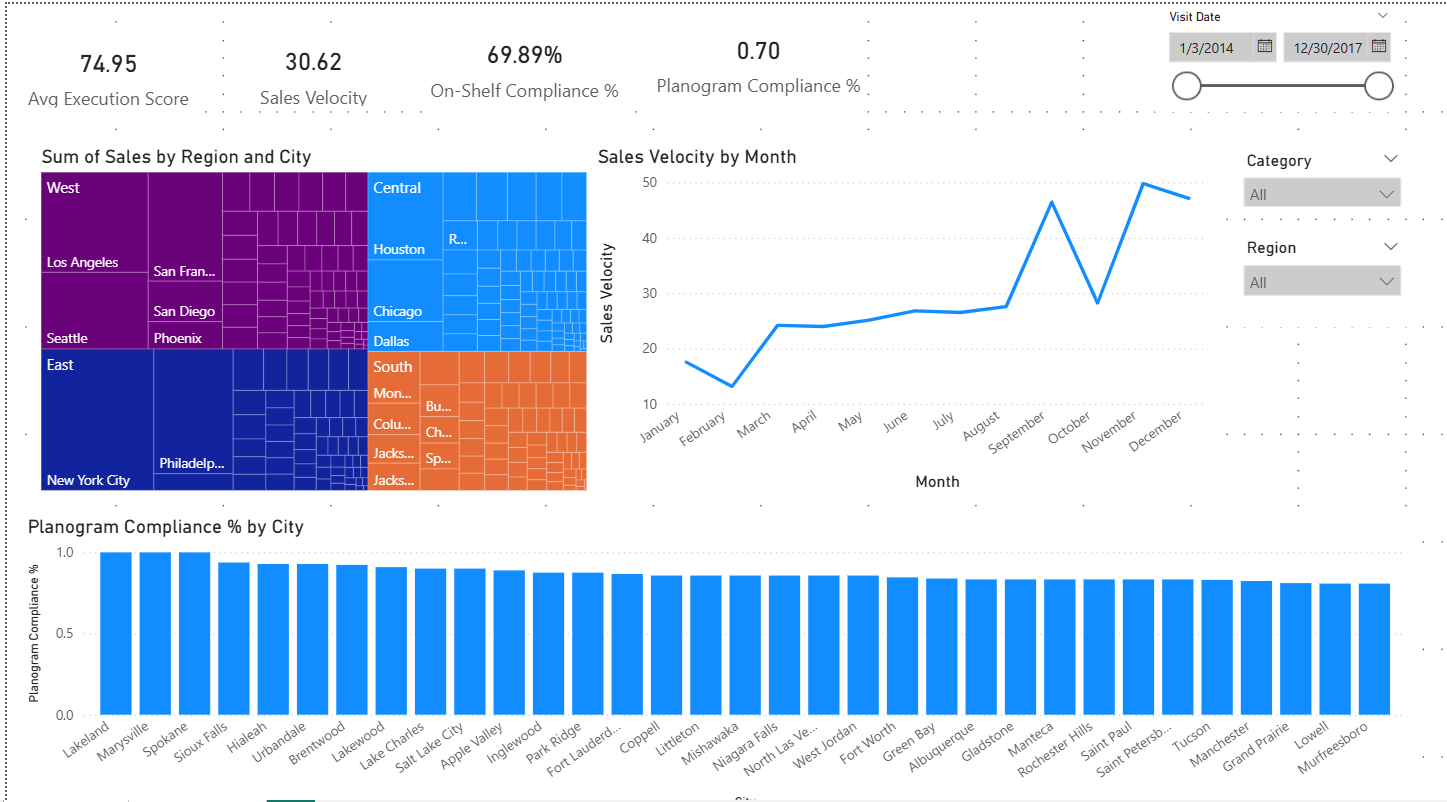

Layout of this report page (visuals, bound fields, positions):
{"tool":"powerbi","page":{"name":"Dashboard","canvas":[1280,720],"ordinal":0},"visuals":[{"type":"card","fields":{"Values":["Measurestable.Avg Execution Score"]},"box":[13.7,28.6,154.3,68.6],"z":0},{"type":"card","fields":{"Values":["Measurestable.Sales Velocity"]},"box":[196.6,28.6,152,66.3],"z":1000},{"type":"card","fields":{"Values":["Measurestable.On-Shelf Compliance %"]},"box":[371.4,5.7,178.3,100.6],"z":2000},{"type":"card","fields":{"Values":["Measurestable.Planogram Compliance %"]},"box":[572.6,0,192,104],"z":3000},{"type":"lineChart","fields":{"Y":["Measurestable.Sales Velocity"],"Category":["Fact_Store_Visit.Visit Date.Variation.Date Hierarchy.Month"]},"box":[520,125.7,552,312],"z":4000},{"type":"clusteredColumnChart","fields":{"Y":["Measurestable.Planogram Compliance %"],"Category":["Dim_Store.City"]},"box":[13.7,454.9,1235.4,266.3],"z":5000},{"type":"slicer","fields":{"Values":["Dim_Product.Category"]},"box":[1089.2,125.6,160,54.5],"z":6000},{"type":"slicer","fields":{"Values":["Fact_Store_Visit.Visit Date"]},"box":[1020.4,0,220.4,94.8],"z":7000},{"type":"slicer","fields":{"Values":["Dim_Store.Region"]},"box":[1089.2,203.9,160,84.1],"z":8000},{"type":"treemap","fields":{"Group":["Dim_Store.Region"],"Details":["Dim_Store.City"],"Values":["Sum(Fact_Store_Visit.Sales)"]},"box":[25.1,125.7,494.9,312],"z":9000}]}

Visuals, with their boxes in screenshot pixels (x1, y1, x2, y2), scaled from the page's 1280x720 canvas onto the 1447x802 screenshot:
card - Measurestable.Avg Execution Score: {"left": 15, "top": 32, "right": 190, "bottom": 108}
card - Measurestable.Sales Velocity: {"left": 222, "top": 32, "right": 394, "bottom": 106}
card - Measurestable.On-Shelf Compliance %: {"left": 420, "top": 6, "right": 621, "bottom": 118}
card - Measurestable.Planogram Compliance %: {"left": 647, "top": 0, "right": 864, "bottom": 116}
lineChart - Measurestable.Sales Velocity x Fact_Store_Visit.Visit Date.Variation.Date Hierarchy.Month: {"left": 588, "top": 140, "right": 1212, "bottom": 488}
clusteredColumnChart - Measurestable.Planogram Compliance % x Dim_Store.City: {"left": 15, "top": 507, "right": 1412, "bottom": 801}
slicer - Dim_Product.Category: {"left": 1231, "top": 140, "right": 1412, "bottom": 201}
slicer - Fact_Store_Visit.Visit Date: {"left": 1154, "top": 0, "right": 1403, "bottom": 106}
slicer - Dim_Store.Region: {"left": 1231, "top": 227, "right": 1412, "bottom": 321}
treemap - Dim_Store.Region x Dim_Store.City: {"left": 28, "top": 140, "right": 588, "bottom": 488}
